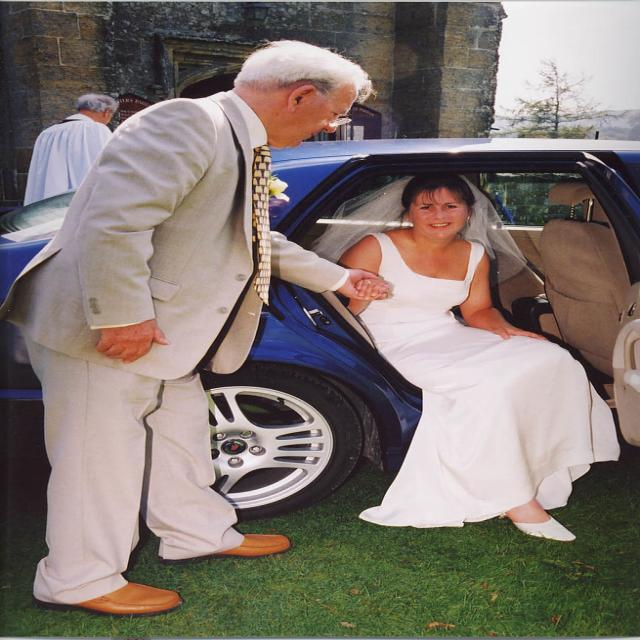car: (0, 87, 527, 560)
